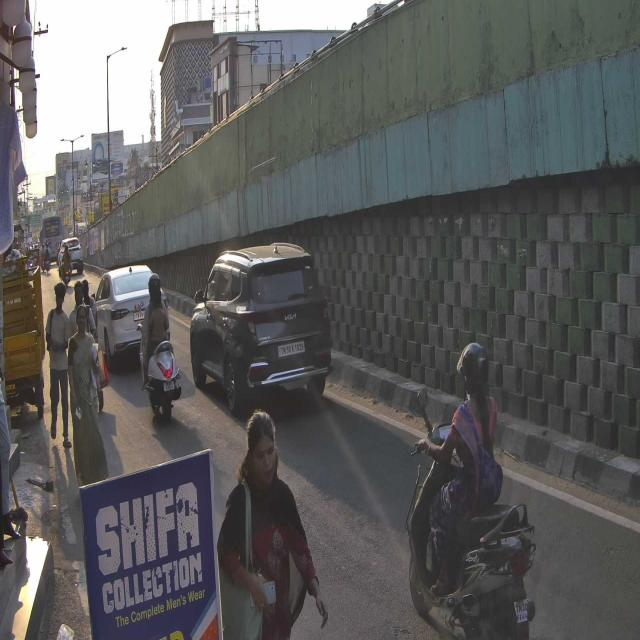single_rider: (402, 339, 539, 640)
